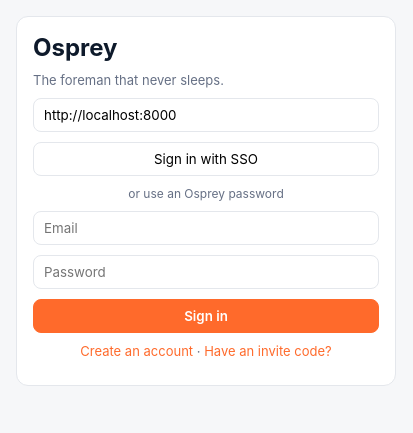
Test: Login — single sign-on › surfaces a refused SSO sign-in instead of failing silently
Step 1. Click the button "Sign in with SSO" → (206, 159), box [33,142,379,176]
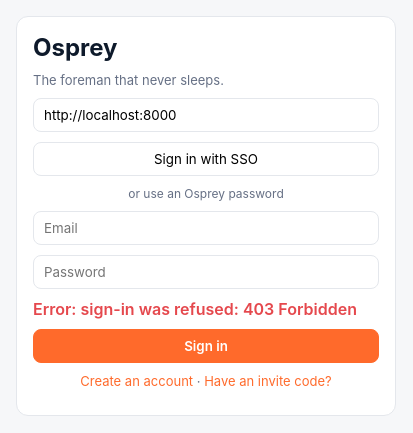
Result: the text "Error: sign-in was refused: 403 Forbidden" is shown at [33,299,379,319]
